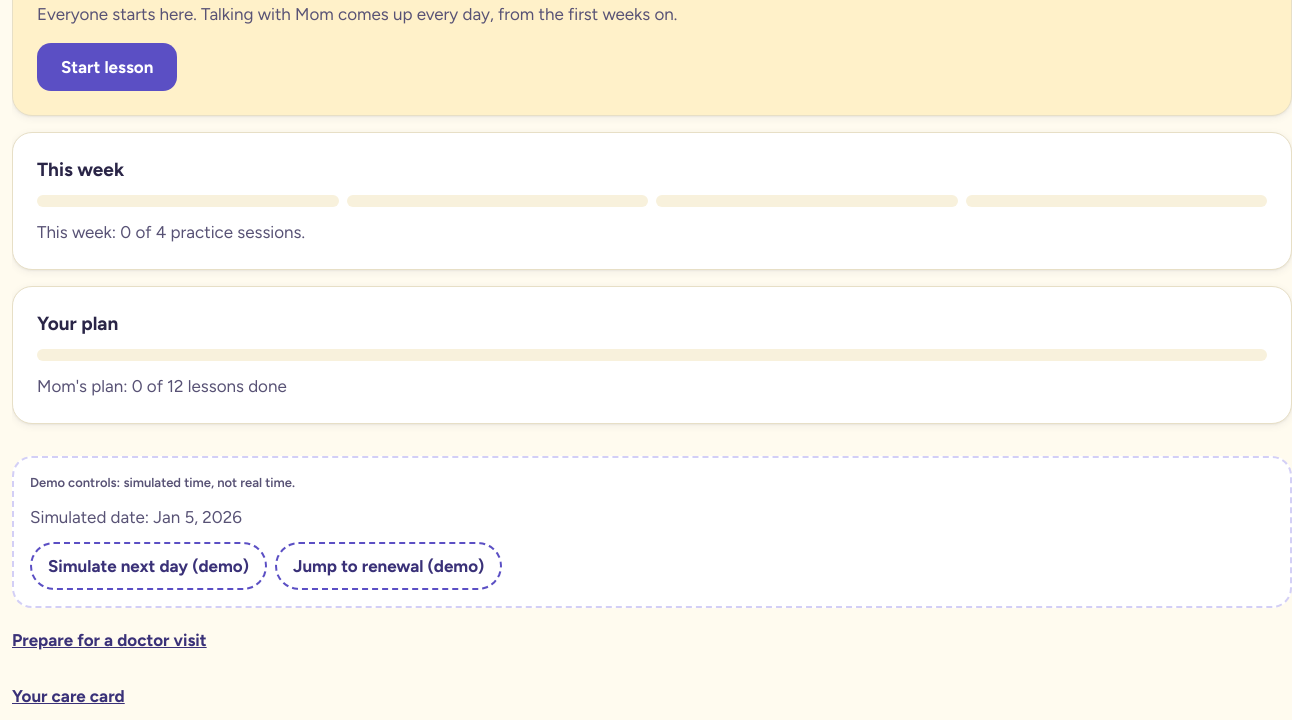
Test case: TodayPage › a demo control press refetches Today silently: the page and the demo status stay mounted
(page scrolled)
Click the button "Simulate next day (demo)".
click(148, 566)  # box [30,542,267,590]
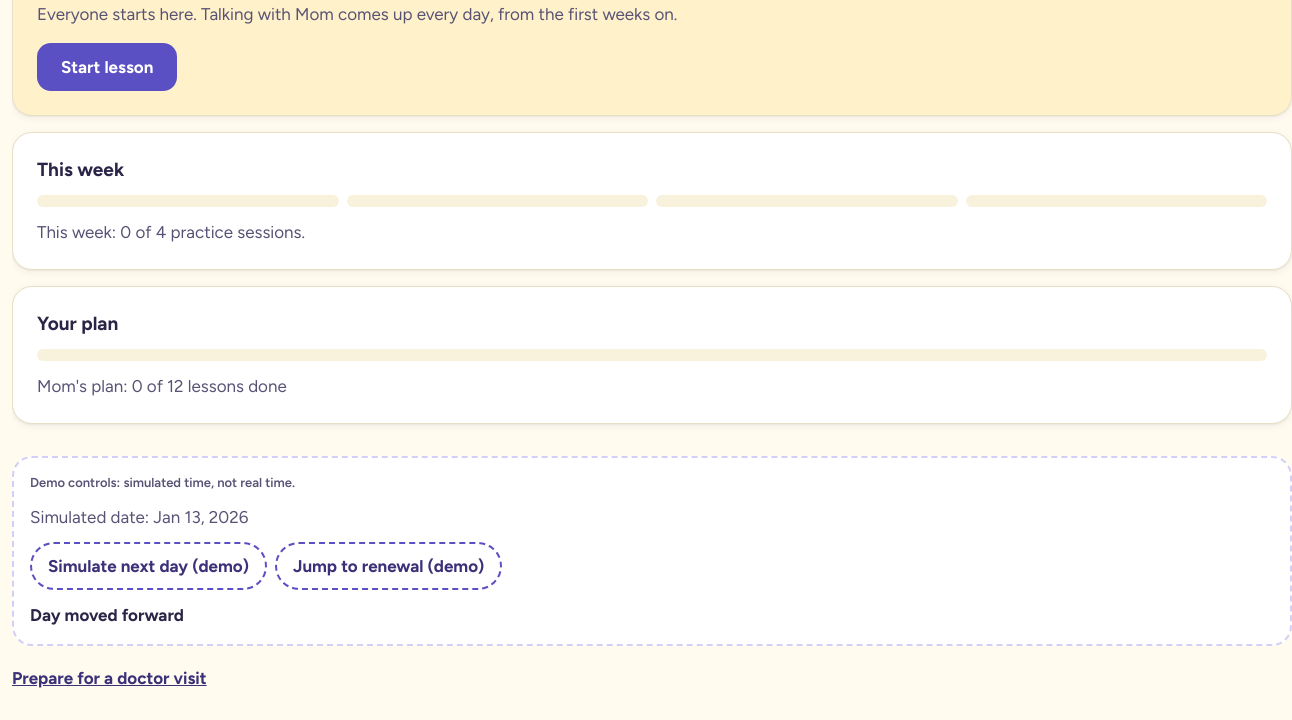
expect the text "Day moved forward" is shown: met, box [30,605,184,625]
